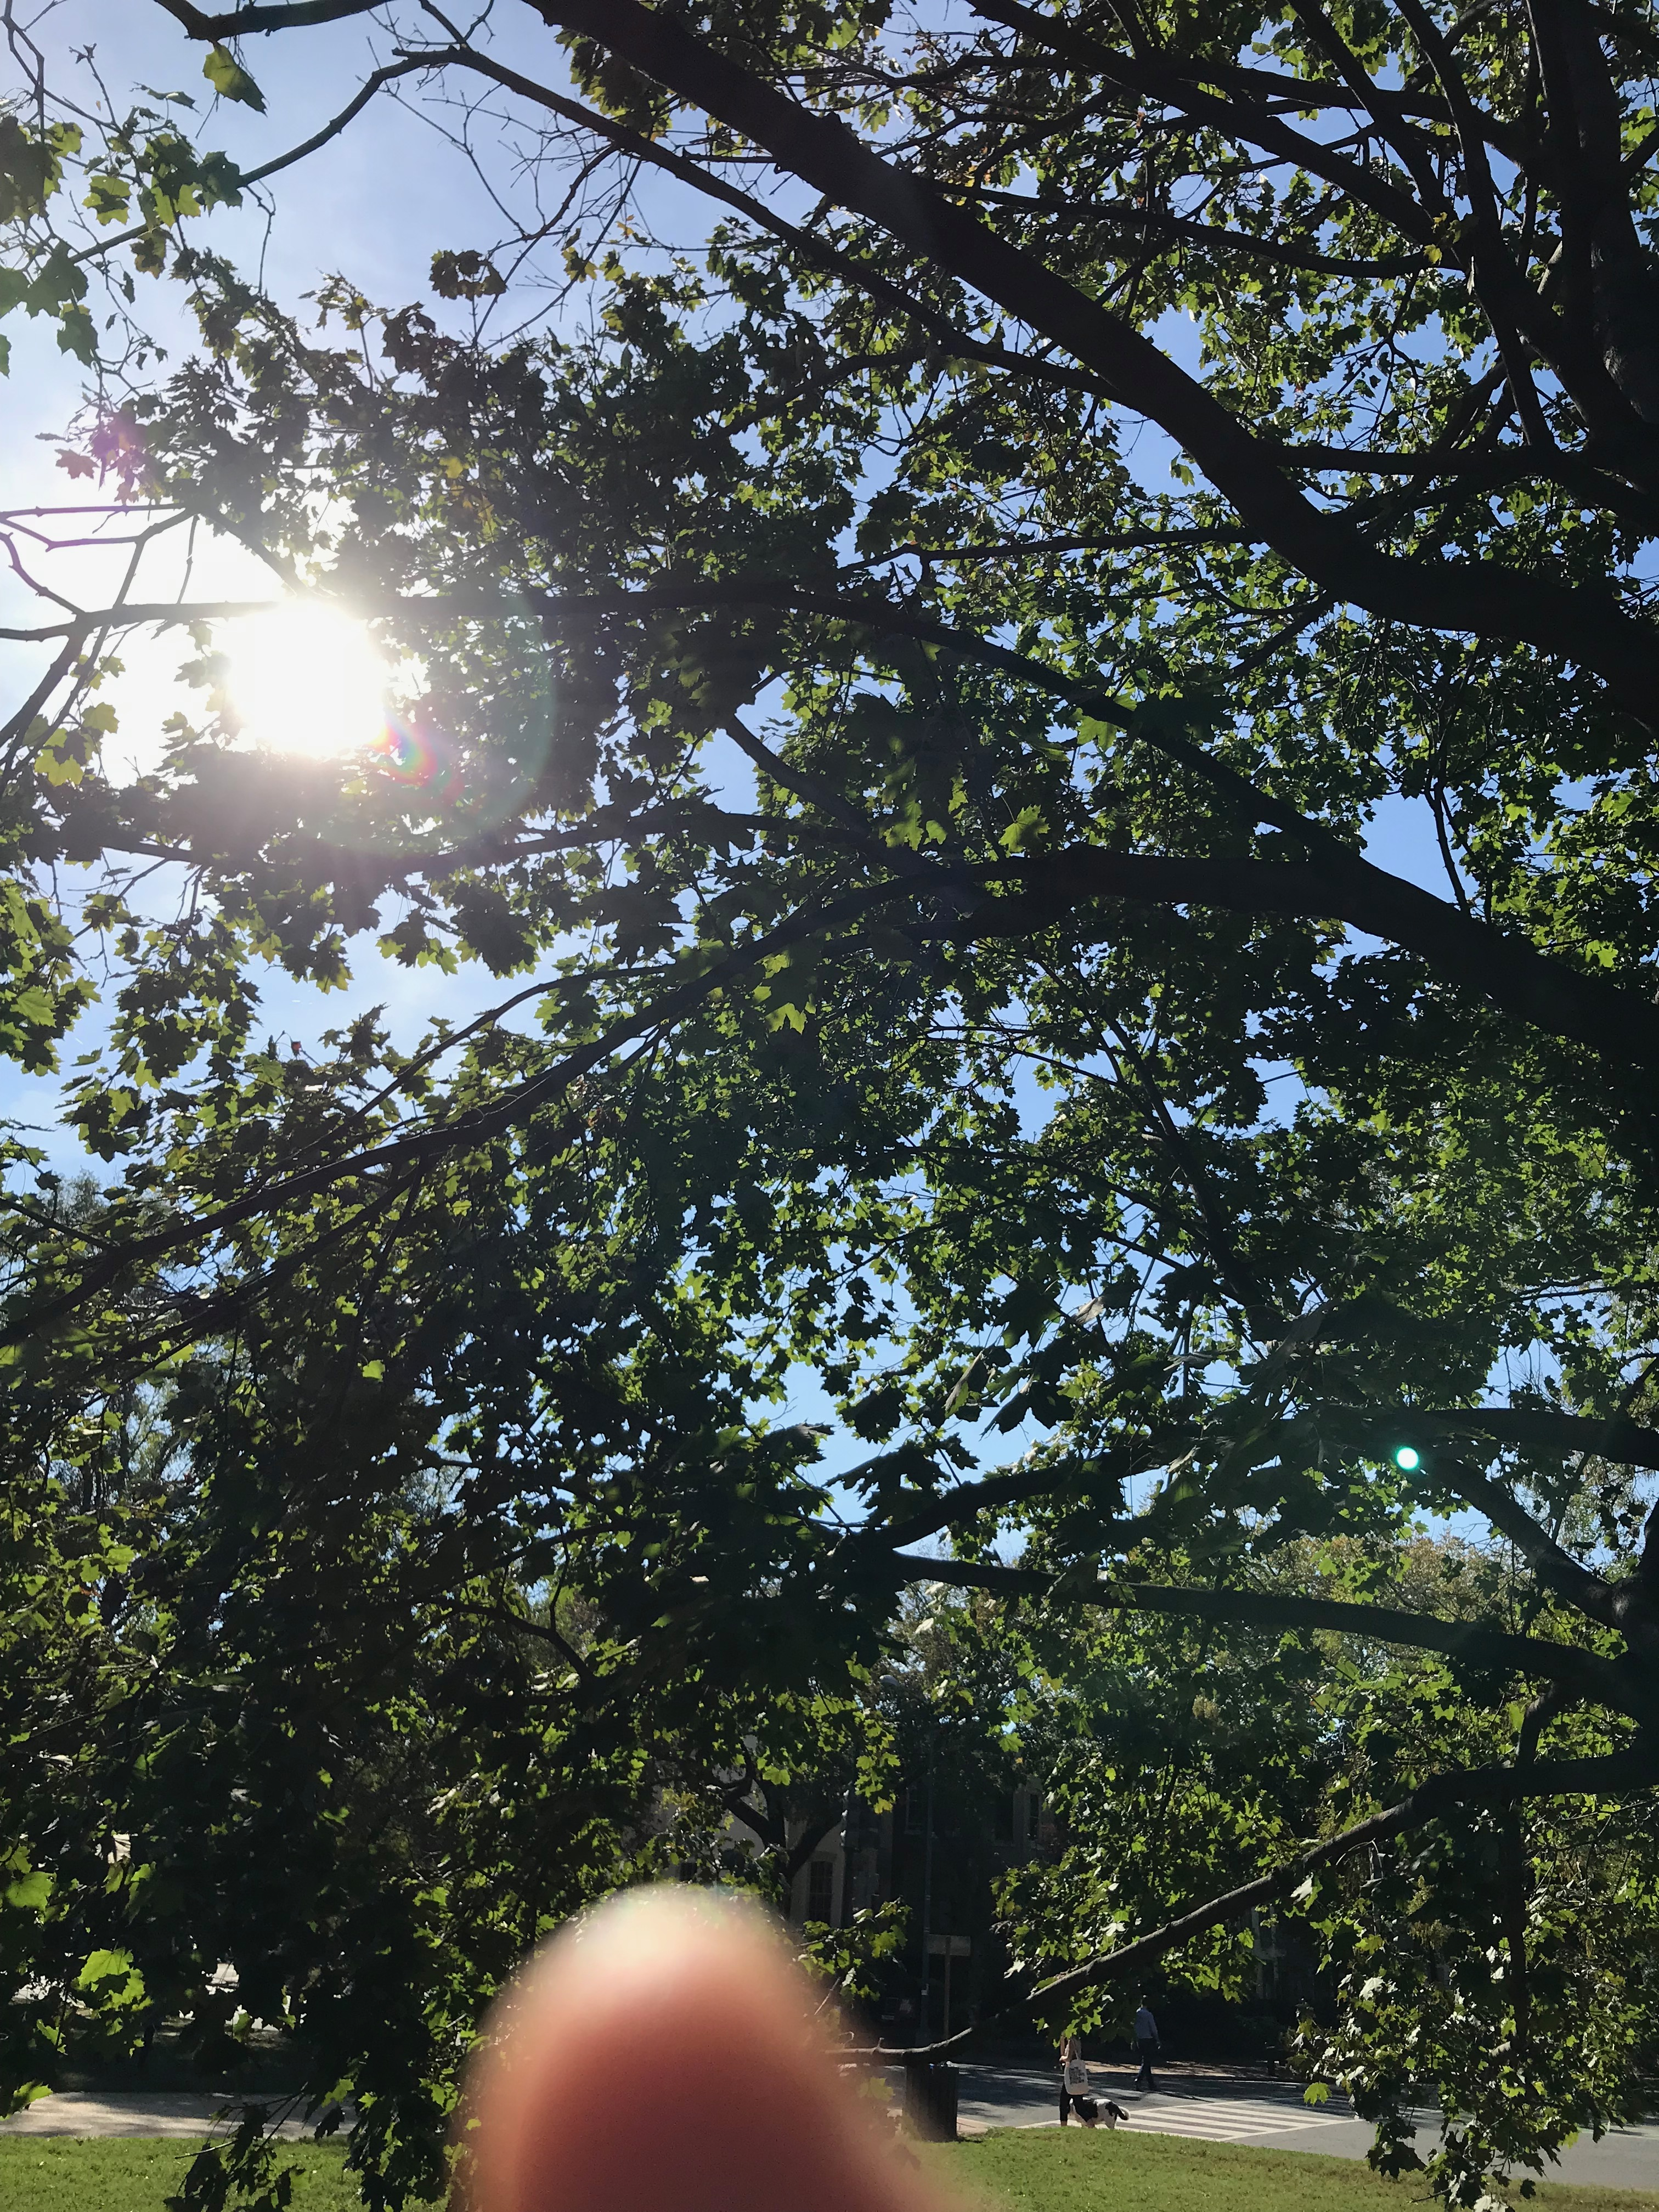flare: (1394, 1444, 1424, 1474)
